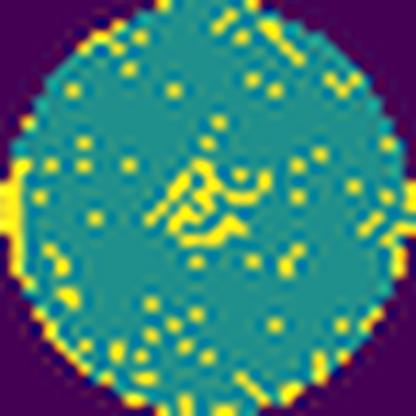Edge-Loc: (0, 154, 37, 293)
